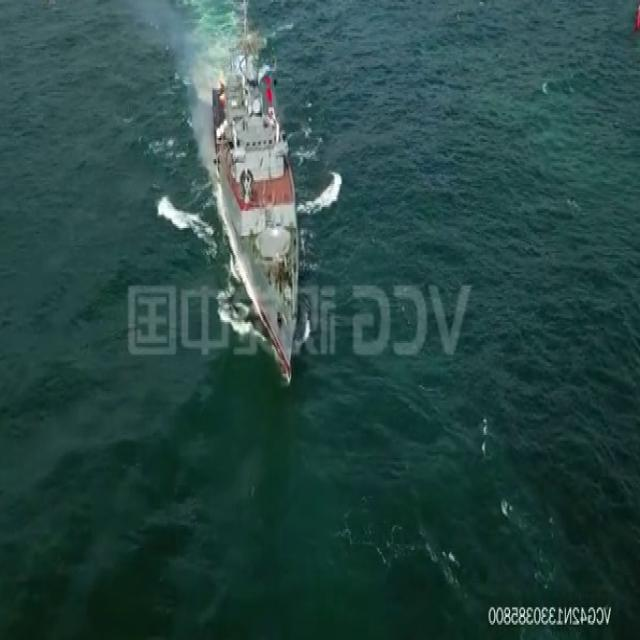navalvessels: (214, 0, 300, 393)
